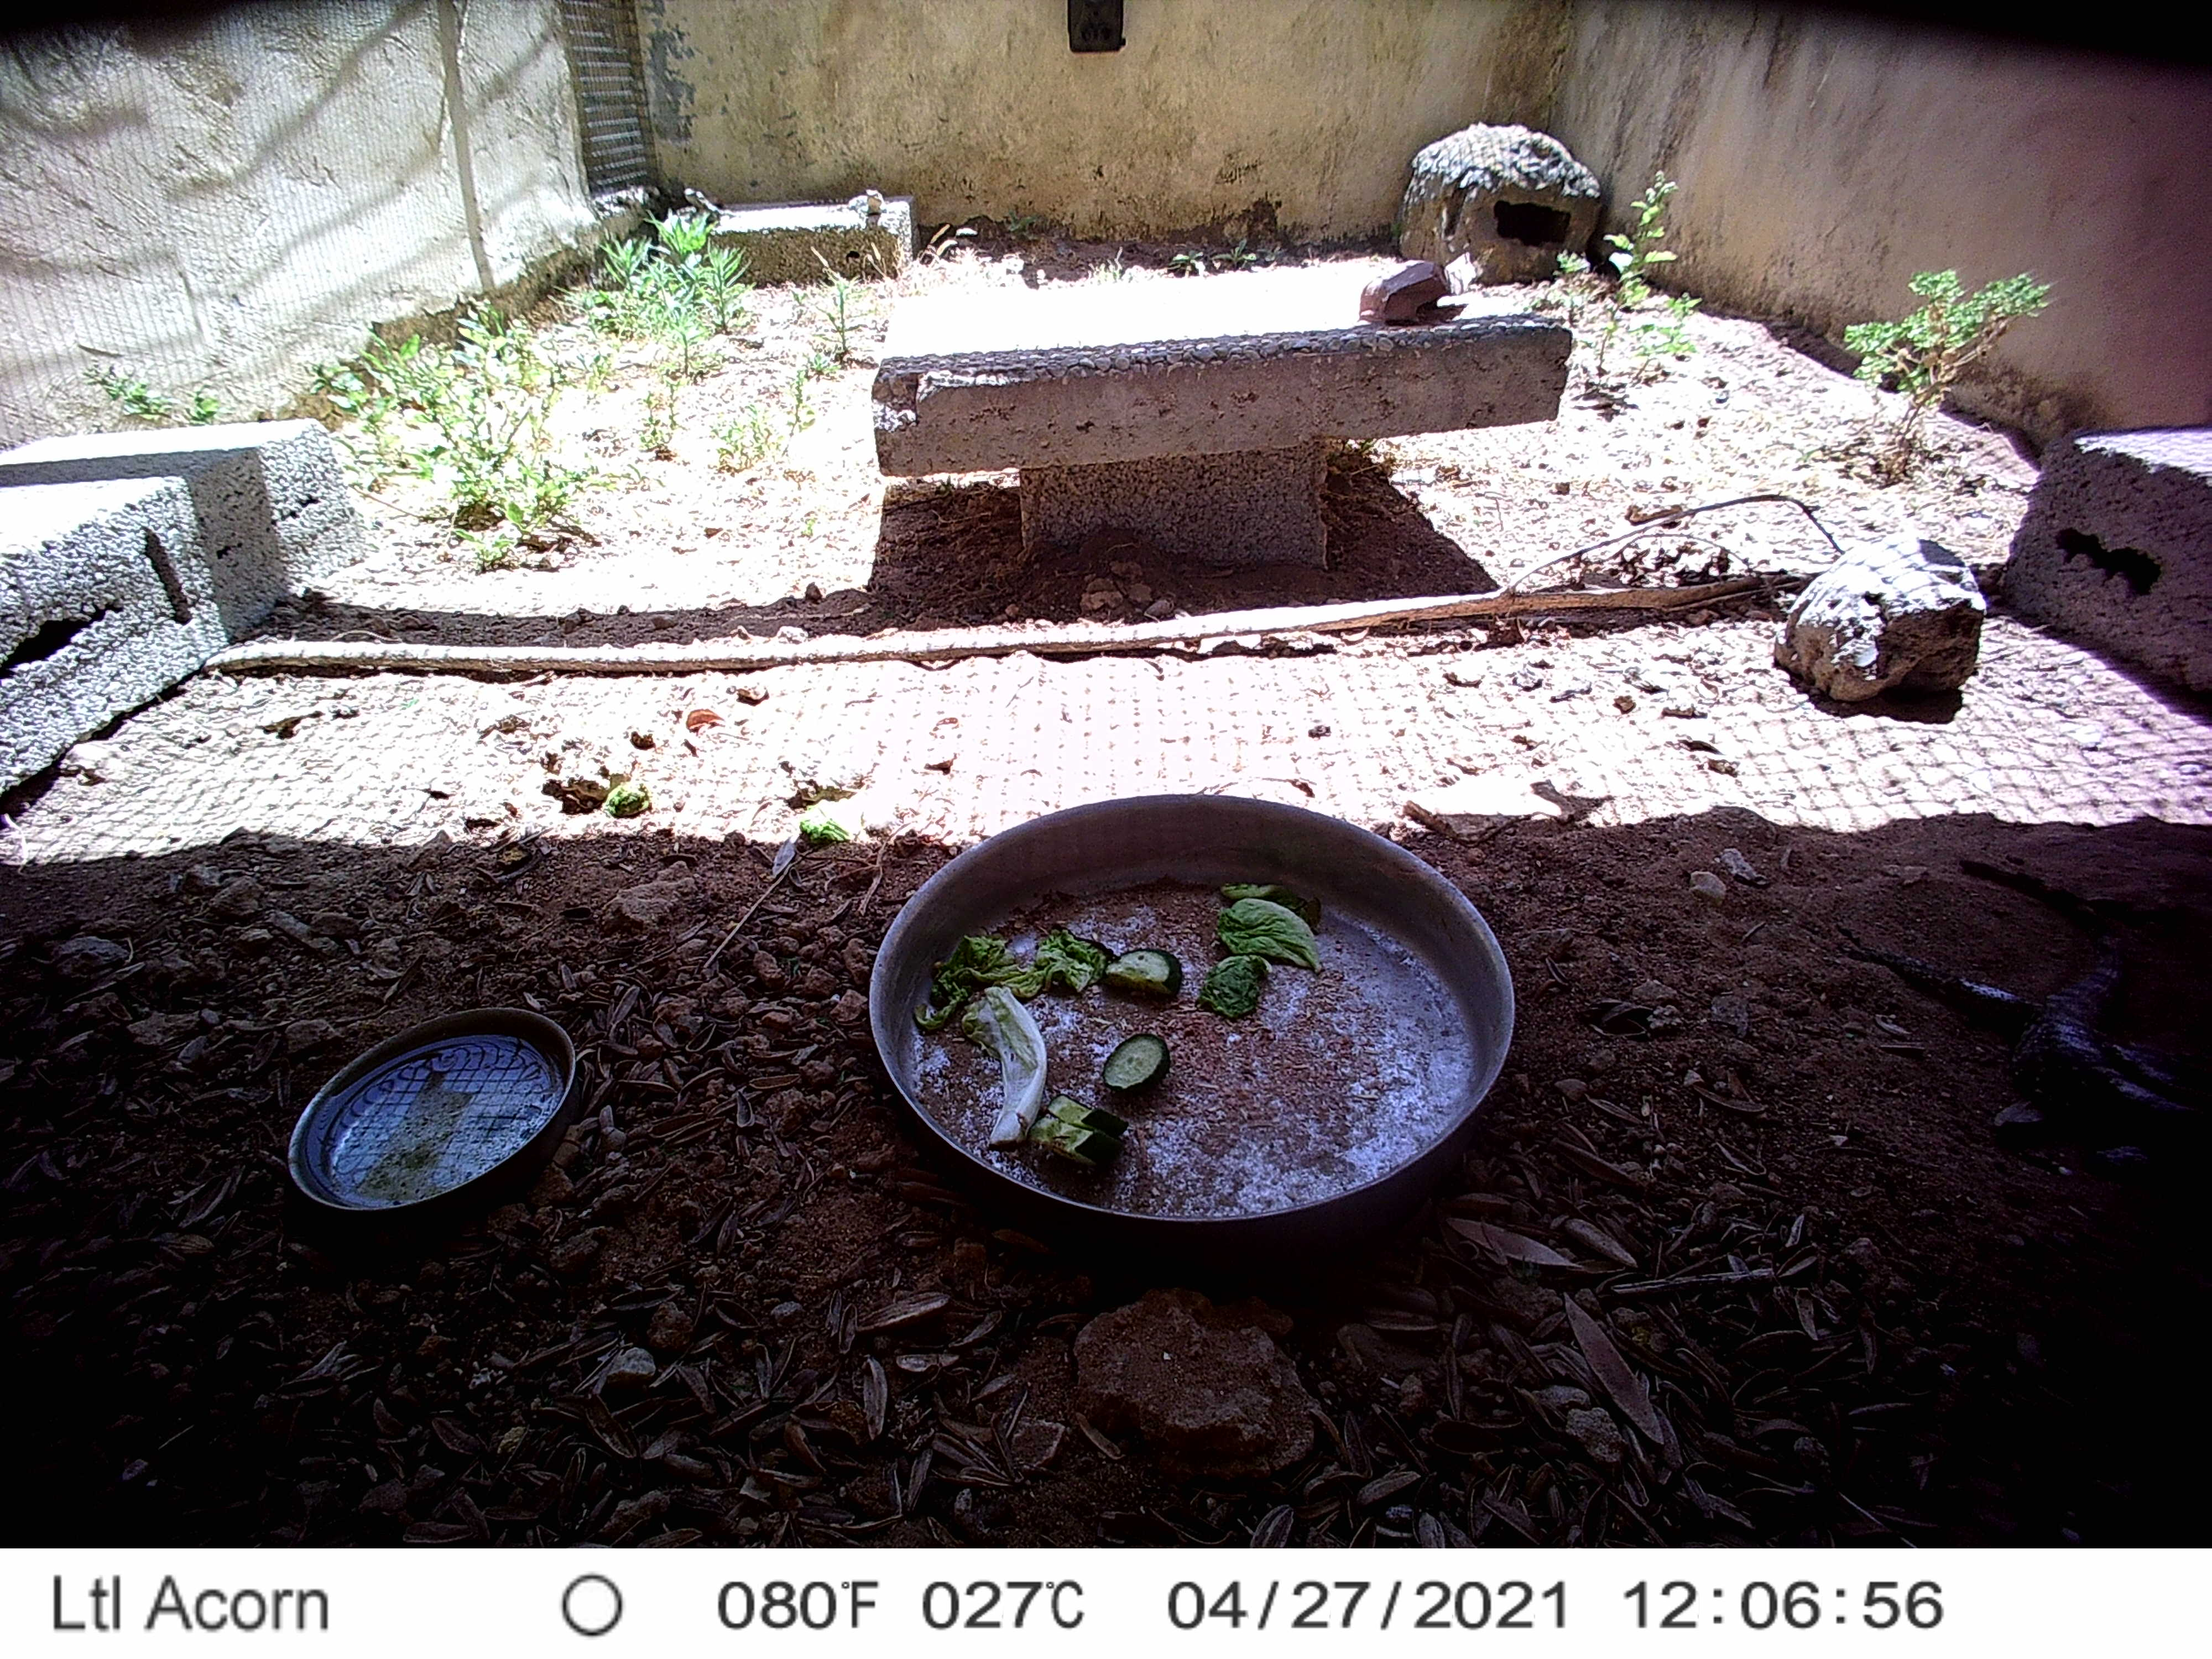lizard: (1895, 856, 2212, 1182), (678, 185, 738, 230), (799, 190, 887, 214)
